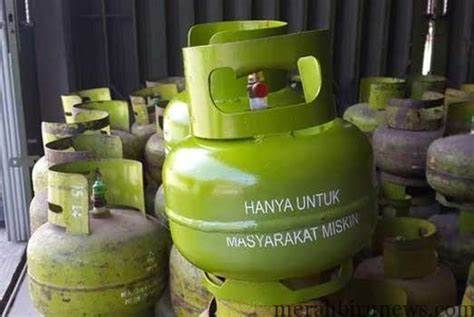gas_ijo: (162, 39, 370, 307), (28, 157, 168, 317), (165, 21, 291, 151), (351, 215, 456, 317), (31, 136, 131, 235), (372, 93, 447, 183), (60, 89, 138, 172), (42, 109, 125, 177), (341, 73, 411, 148), (425, 116, 474, 211), (411, 71, 474, 127), (128, 76, 168, 143), (143, 105, 169, 180)
